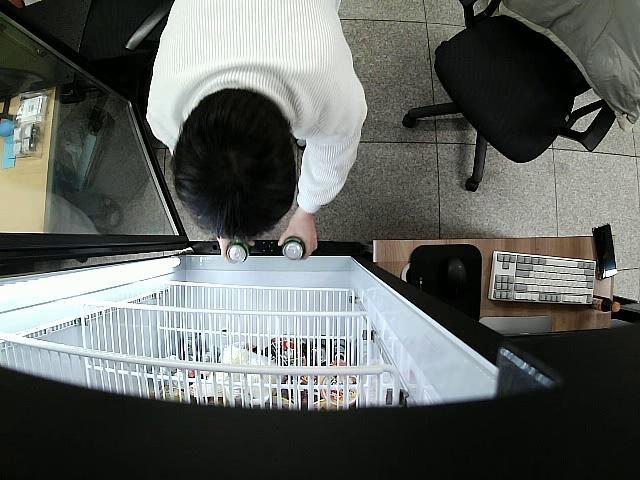12_chilsungCider: (282, 236, 306, 262), (226, 239, 250, 264)
